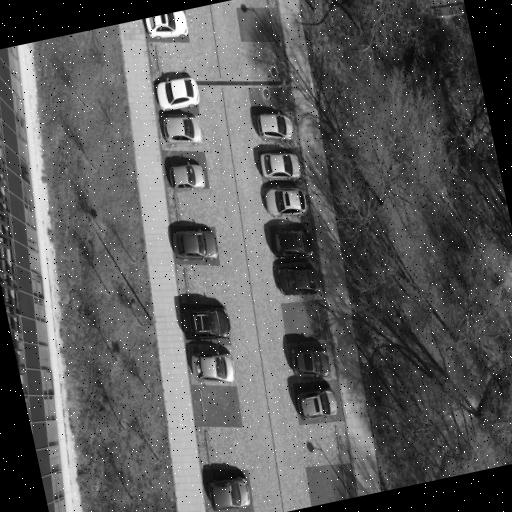person: (179, 303, 229, 340), (156, 78, 199, 111), (209, 476, 250, 510), (270, 225, 312, 257), (191, 351, 234, 382), (172, 231, 217, 260), (277, 264, 319, 295), (297, 389, 337, 421), (145, 11, 187, 39), (259, 152, 299, 180), (265, 189, 306, 216), (163, 116, 201, 145), (291, 349, 329, 377), (169, 164, 204, 191), (257, 114, 292, 140)
